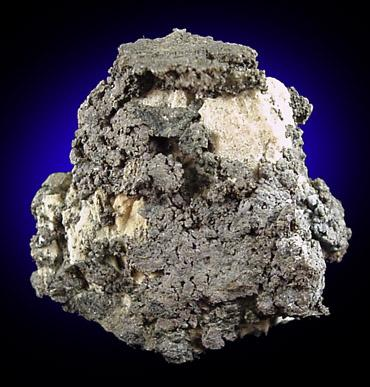silver: (199, 78, 296, 168), (68, 188, 108, 264), (113, 194, 148, 238), (146, 88, 187, 103), (122, 197, 134, 213)
